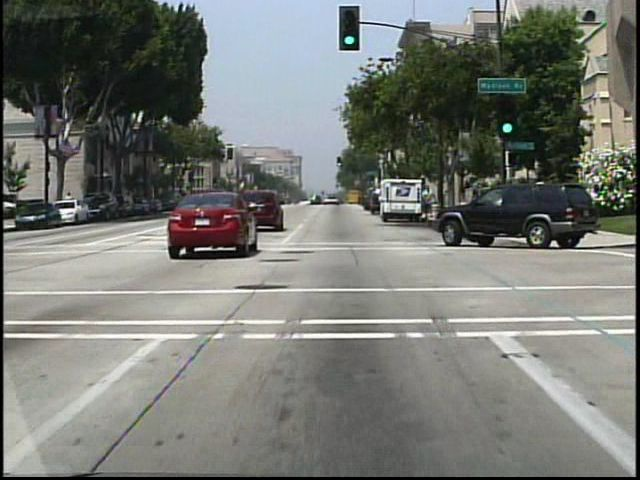person: (422, 186, 435, 220), (361, 190, 373, 214), (66, 191, 77, 215)
